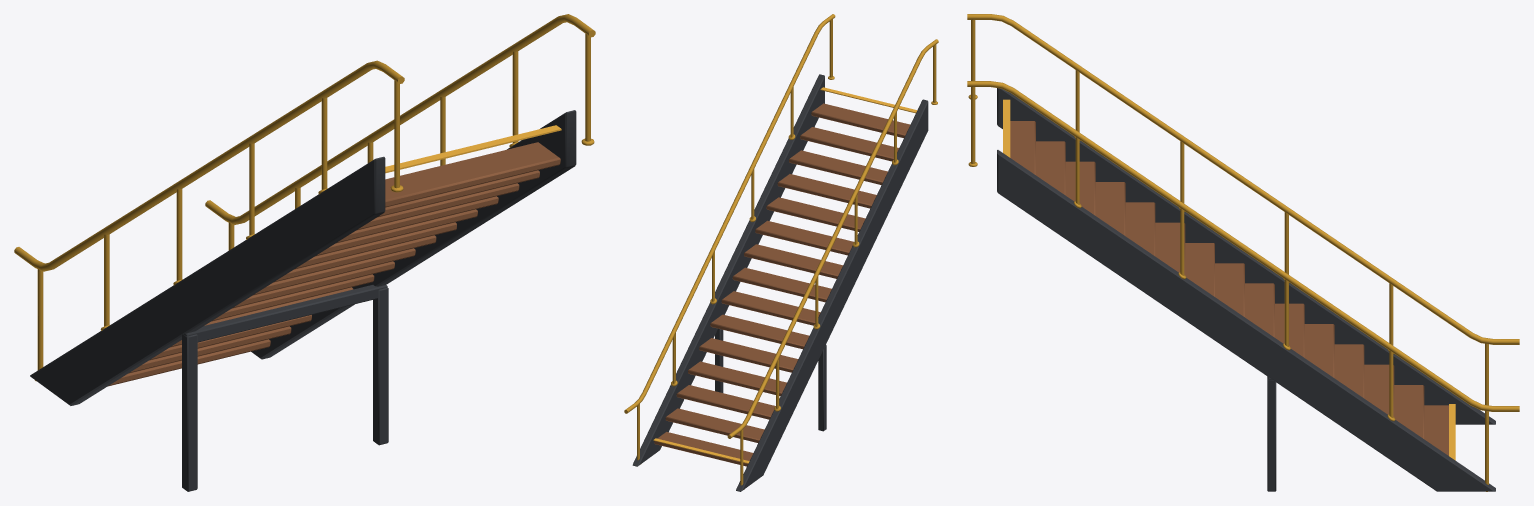
File: Shop_BasementStairs.fbx
The picture shows the model from 3 angles, left to right: view 1: azimuth 30°, elevation 25°; view 2: azimuth 150°, elevation 25°; view 3: azimuth 270°, elevation 25°; orthographic projection. The views are drawn at different scales.
Visible parts, largest first — view 1: Stringers, Treads, Handrail, Hazard; view 2: Treads, Stringers, Handrail, Hazard; view 3: Stringers, Treads, Handrail, Hazard.
Boxes of the visible parts, x1,y1,x2,y2 form: Stringers: (30,110,576,491); Treads: (108,142,560,386); Handrail: (14,14,595,381); Hazard: (385,125,561,173); Treads: (654,103,910,466); Stringers: (632,74,928,491); Handrail: (624,14,938,489); Hazard: (653,87,917,463); Stringers: (997,88,1495,491); Treads: (1010,121,1448,455); Handrail: (967,14,1519,491); Hazard: (1003,99,1455,460).
Bounding box in the file's own units: 564 × 1509 × 1850.
